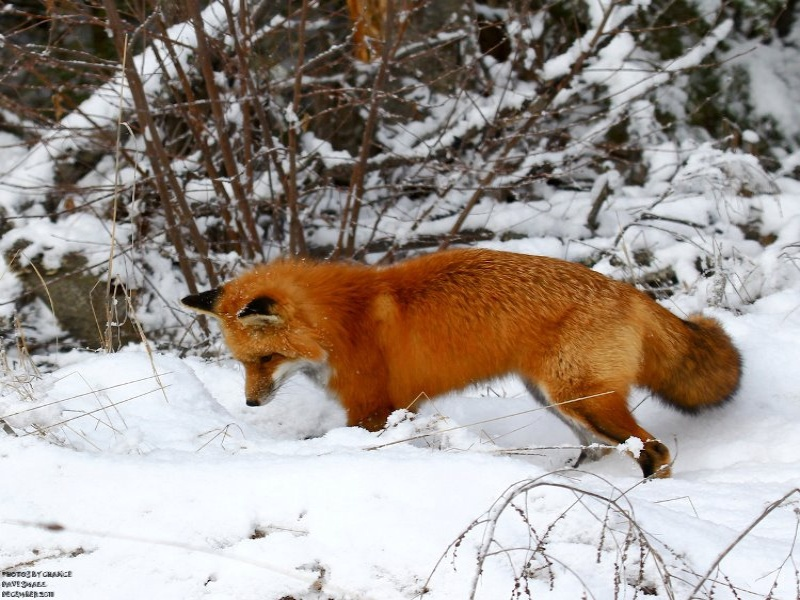fox: (182, 254, 751, 496)
